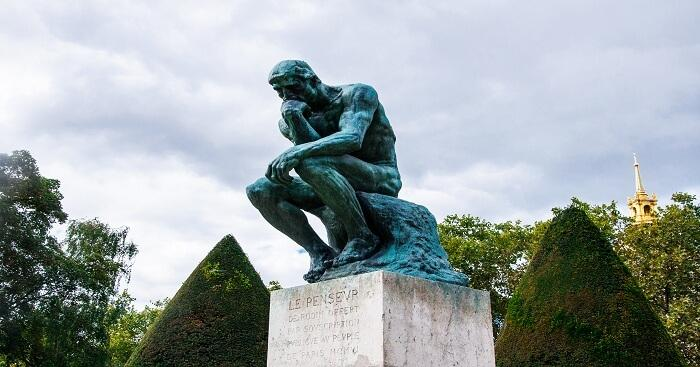person-like: (242, 56, 408, 282)
